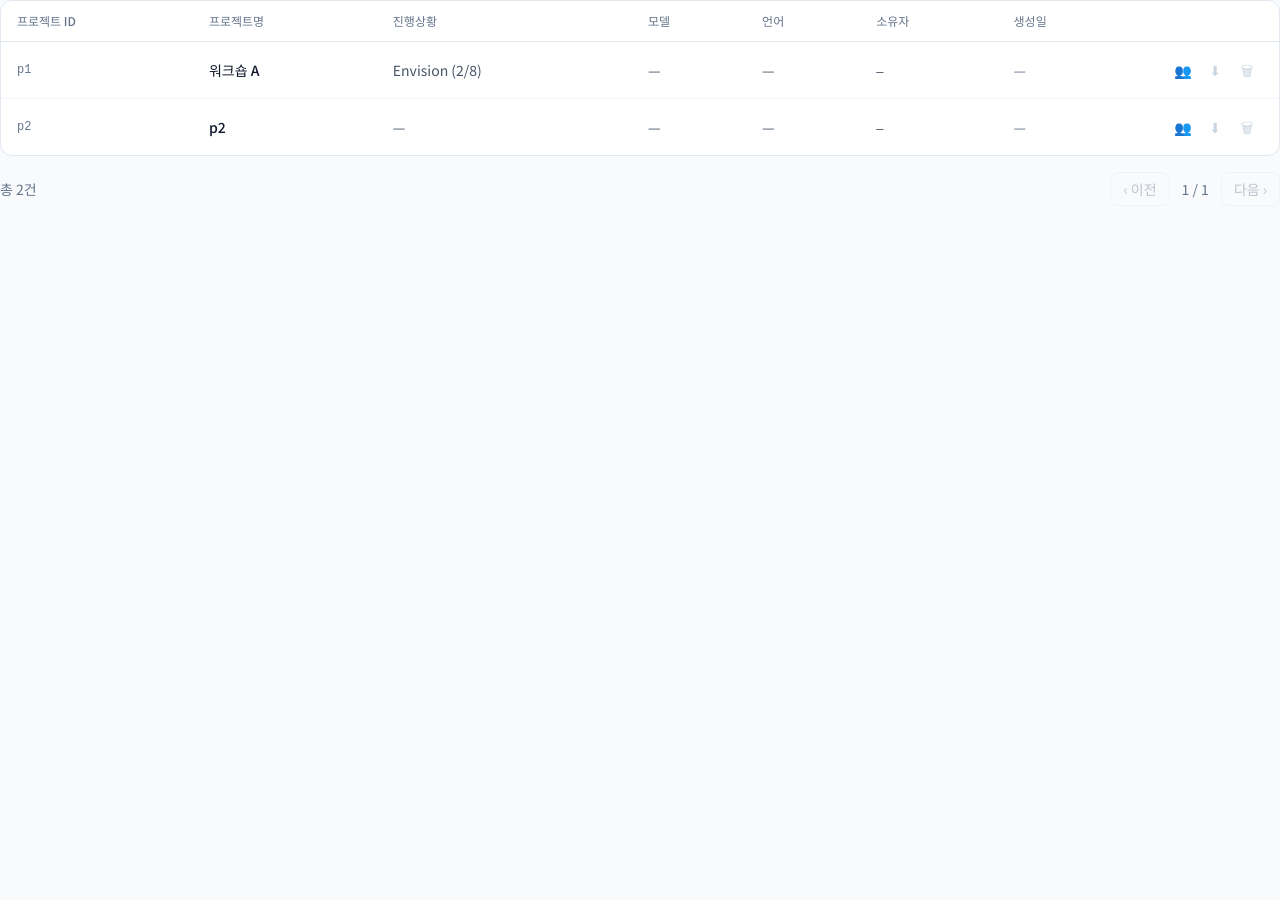
Test case: ProjectList delete › shows an error and keeps the dialog when DELETE fails
This screenshot has width=1280, height=900.
Click the button named "프로젝트 삭제": x=1247, y=70 [1231,54,1263,86]
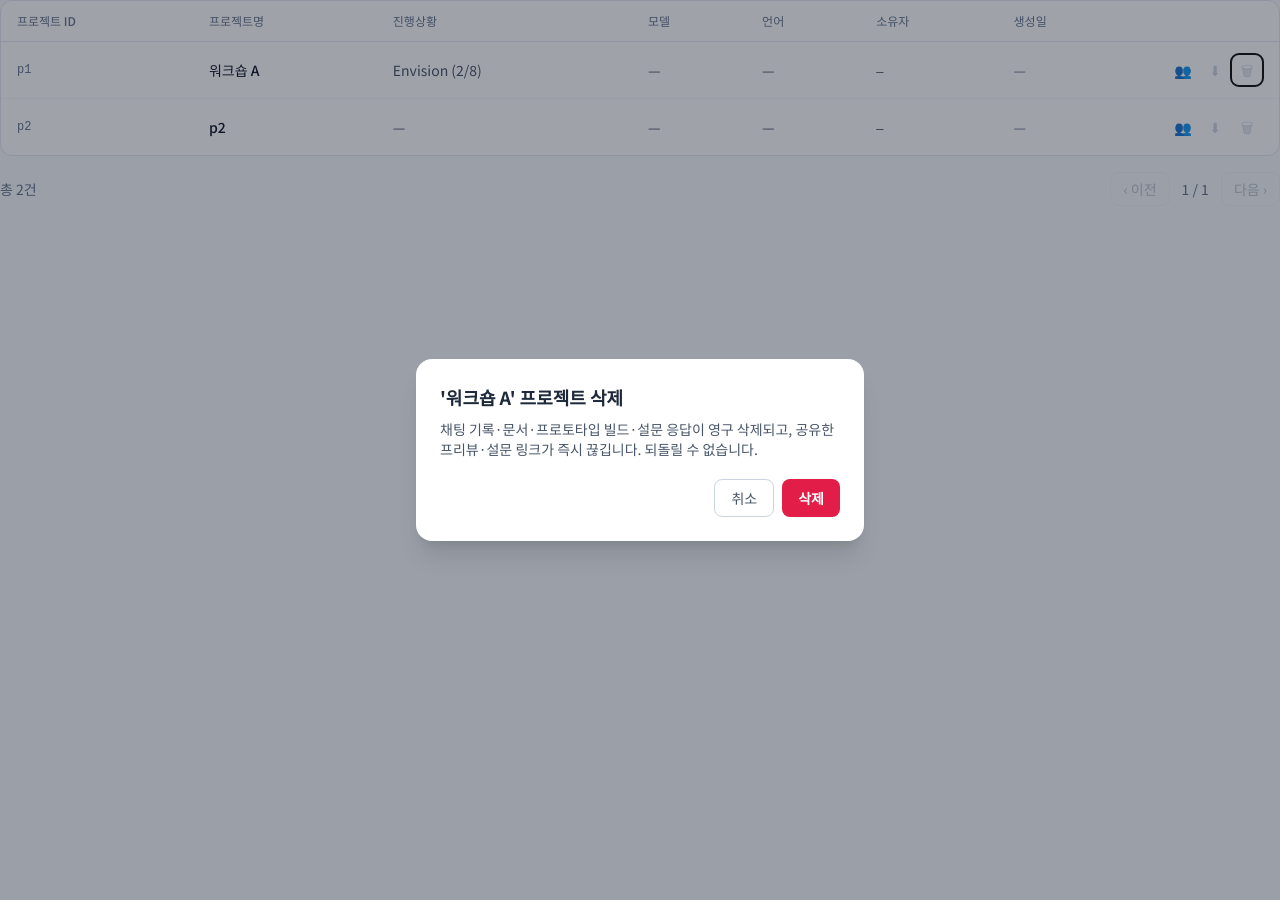
Click the button "삭제": x=811, y=498 [782,479,840,517]
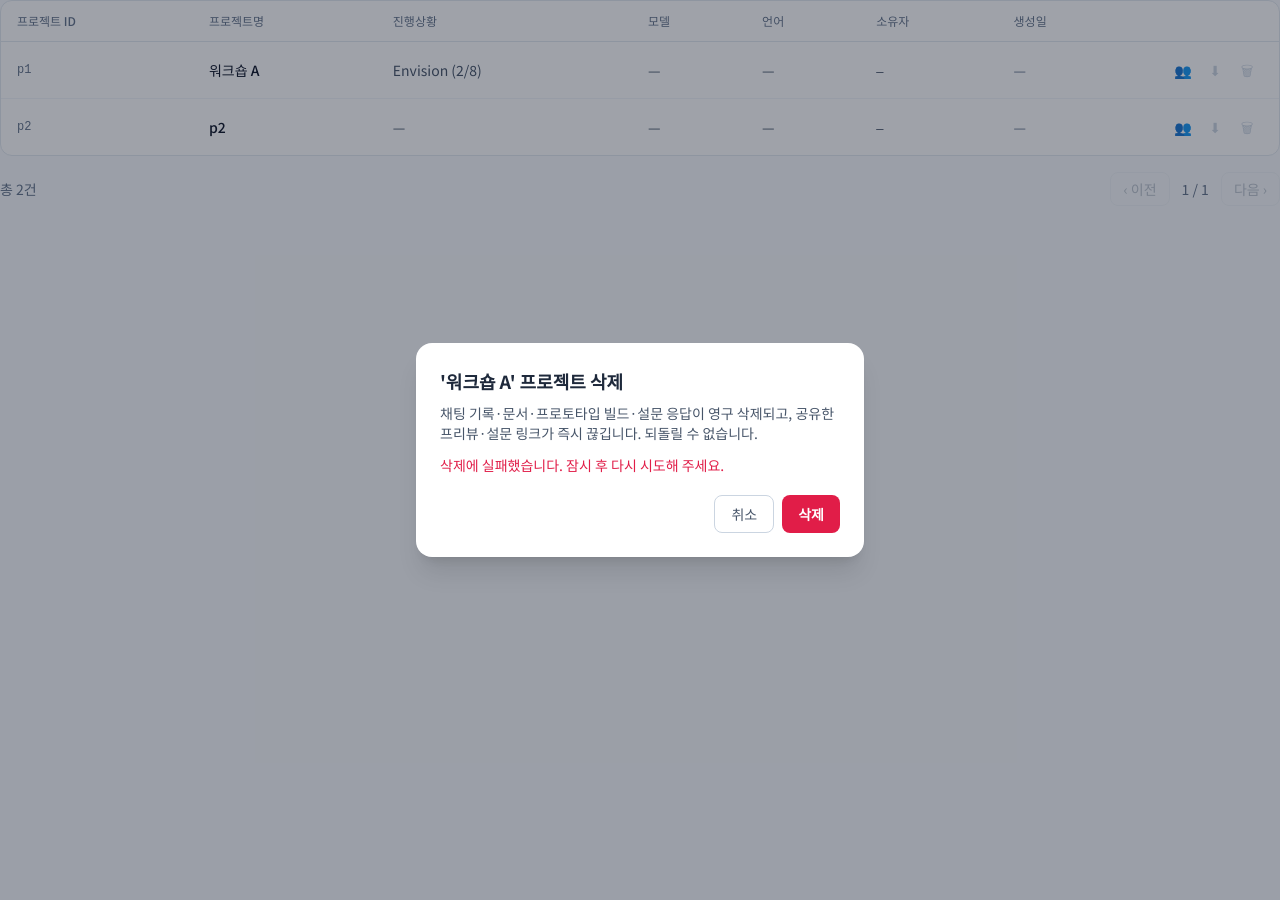
Expected: the dialog is shown, [416,343,864,557]
Expected: the text "삭제에 실패했습니다. 잠시 후 다시 시도해 주세요." is shown, [440,455,724,475]
